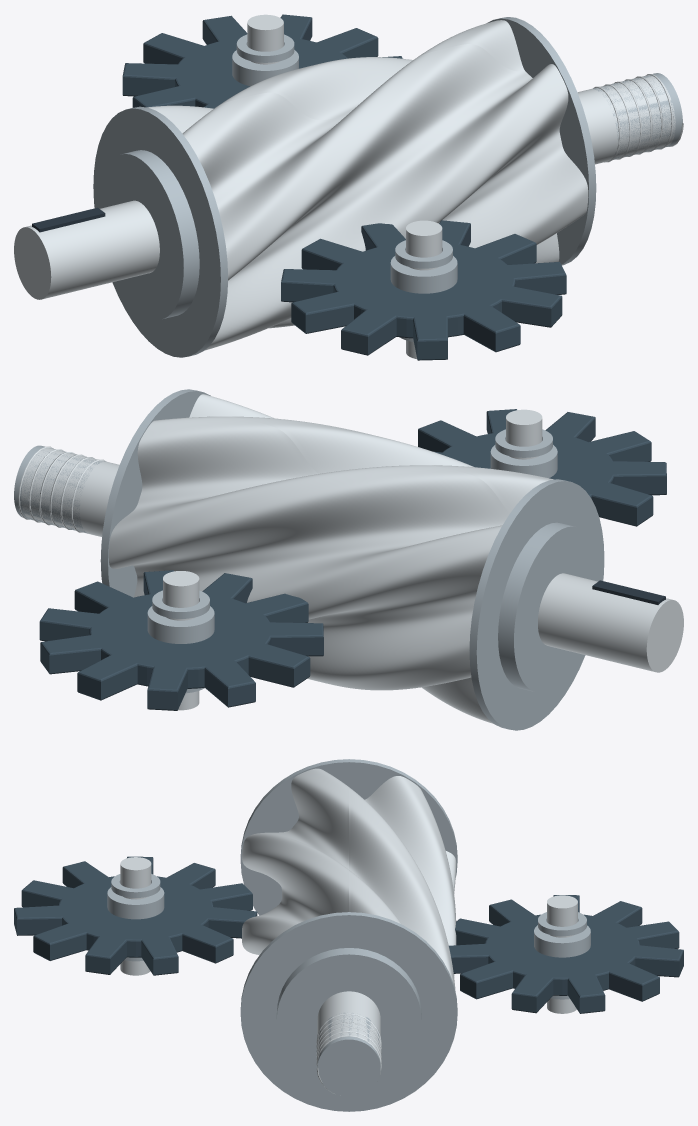
The model's file is rotor.glb.
3 renders of one model, top to bottom at view 1: azimuth 30°, elevation 25°; view 2: azimuth 150°, elevation 25°; view 3: azimuth 270°, elevation 25°, orthographic. The views are drawn at different scales.
Visible parts, largest first — view 1: Trục vít chính, Bánh sao A, Bánh sao B, Rãnh then minh họa; view 2: Trục vít chính, Bánh sao B, Bánh sao A, Rãnh then minh họa; view 3: Trục vít chính, Bánh sao A, Bánh sao B.
Part boxes in pixels (bbox=[...]): Trục vít chính: bbox=[14, 17, 683, 357]; Bánh sao A: bbox=[281, 220, 566, 360]; Bánh sao B: bbox=[122, 14, 402, 108]; Rãnh then minh họa: bbox=[32, 207, 105, 232]; Trục vít chính: bbox=[14, 389, 683, 730]; Bánh sao B: bbox=[39, 570, 323, 710]; Bánh sao A: bbox=[418, 409, 666, 526]; Rãnh then minh họa: bbox=[592, 580, 665, 604]; Trục vít chính: bbox=[240, 759, 457, 1111]; Bánh sao A: bbox=[14, 856, 257, 975]; Bánh sao B: bbox=[449, 895, 683, 1013].
Size of the model in its own units: 4.81 by 1.68 by 5.18.
